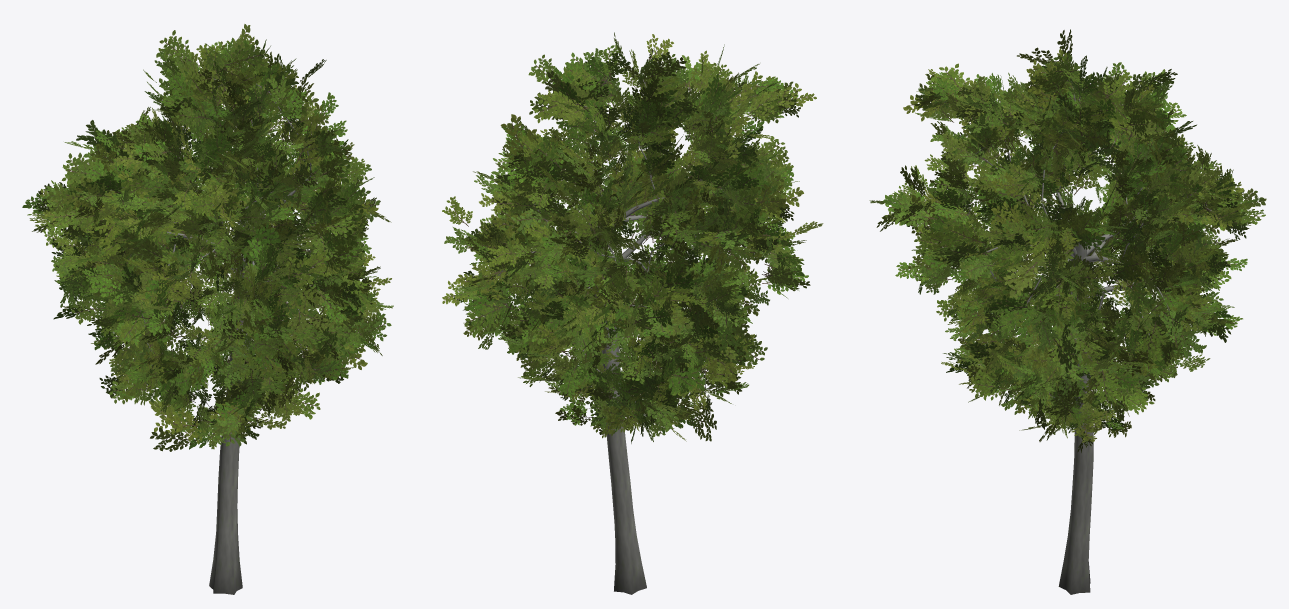
File: buk_stredni.glb
3 renders of one model, left to right at view 1: azimuth 30°, elevation 25°; view 2: azimuth 150°, elevation 25°; view 3: azimuth 270°, elevation 25°, orthographic.
Parts seen in each view (by area): view 1: buk_stredni; view 2: buk_stredni; view 3: buk_stredni.
Part boxes in pixels (x1=…): buk_stredni: x1=22, y1=24, x2=393, y2=594; buk_stredni: x1=442, y1=32, x2=823, y2=594; buk_stredni: x1=869, y1=29, x2=1266, y2=594.
Size of the model in its own units: 9.77 by 15.66 by 10.6.
2 materials, 2 textured.
